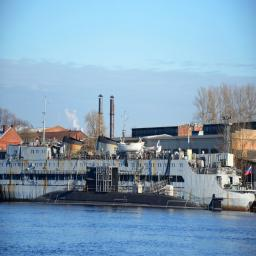submarine: (32, 193, 227, 208)
